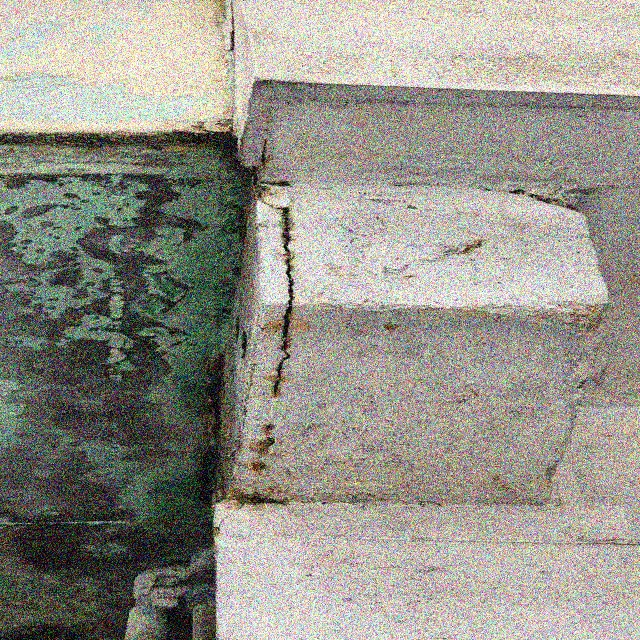SurfaceCrack: (262, 175, 301, 408)
